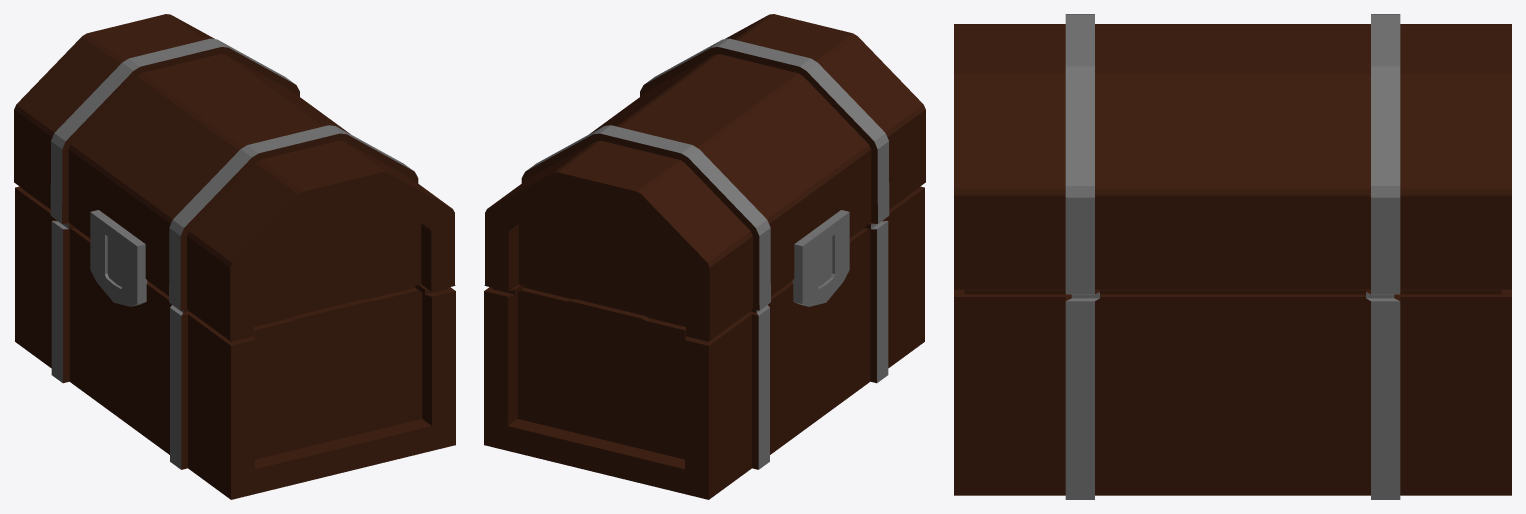
Rendered from Chest.fbx.
The picture shows the model from 3 angles, left to right: view 1: azimuth 30°, elevation 25°; view 2: azimuth 150°, elevation 25°; view 3: azimuth 270°, elevation 25°; orthographic projection. The views are drawn at different scales.
Parts seen in each view (by area): view 1: Chest Top, Chest Bottom; view 2: Chest Top, Chest Bottom; view 3: Chest Top, Chest Bottom.
Boxes of the visible parts, x1,y1,x2,y2 form: Chest Top: [14, 14, 454, 340]; Chest Bottom: [15, 186, 455, 499]; Chest Top: [485, 14, 925, 340]; Chest Bottom: [484, 186, 924, 499]; Chest Top: [954, 14, 1511, 293]; Chest Bottom: [954, 289, 1511, 499].
Bounding box in the file's own units: 71.27 × 84.23 × 111.
